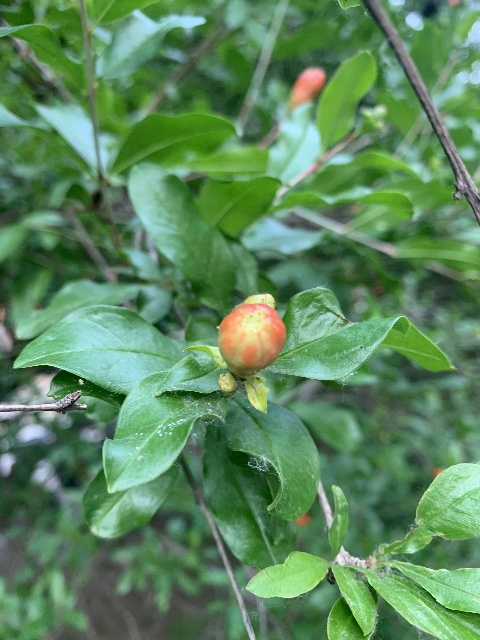bud: (217, 303, 287, 375)
